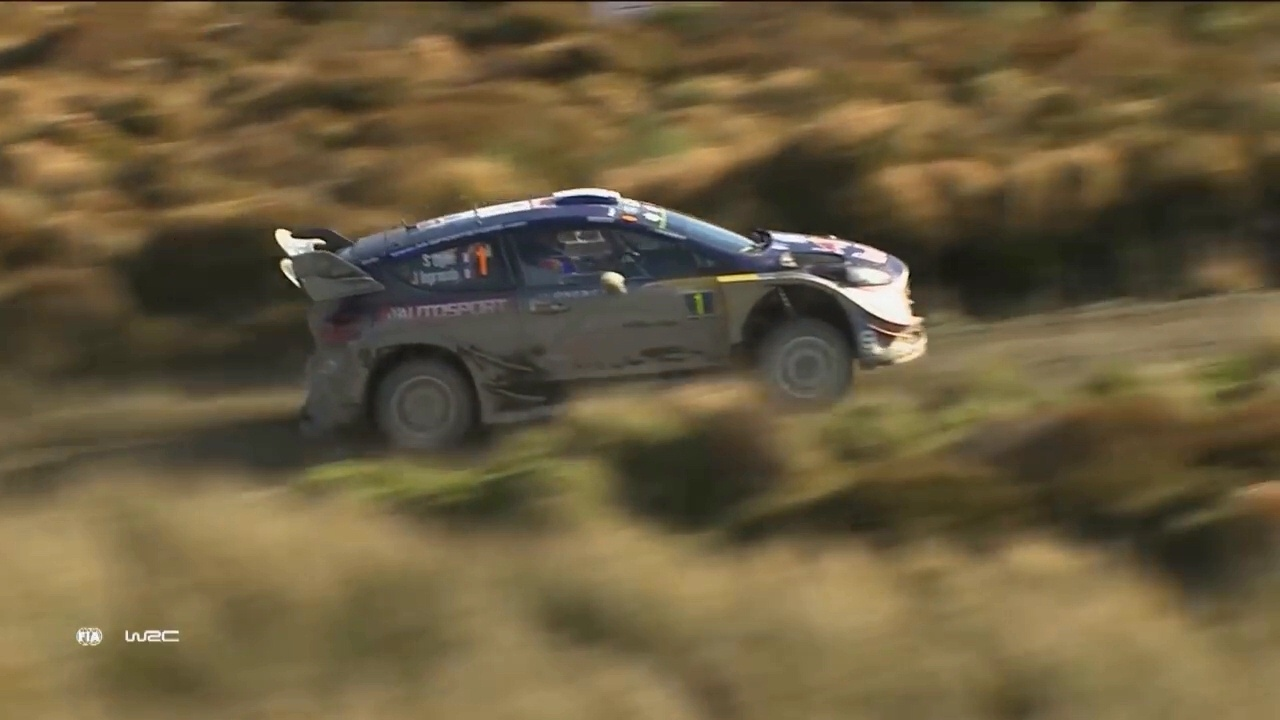araba: (272, 189, 927, 447)
